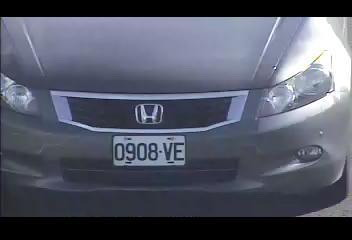plate: (112, 135, 187, 167)
